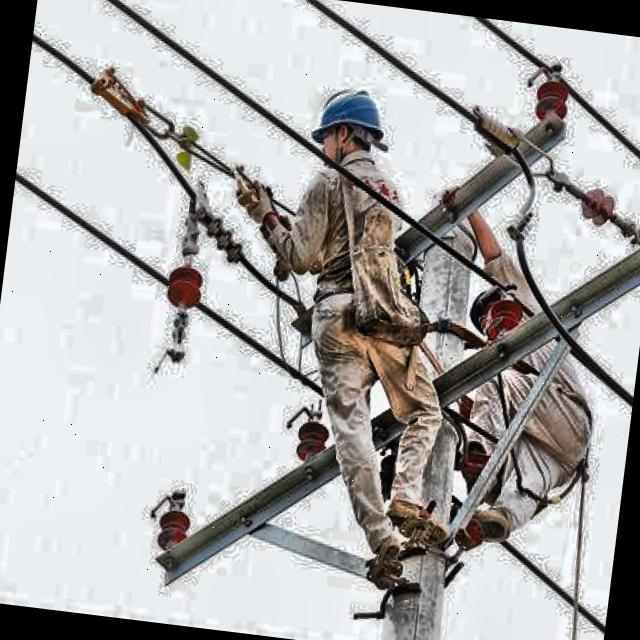helmet: (304, 72, 401, 182)
